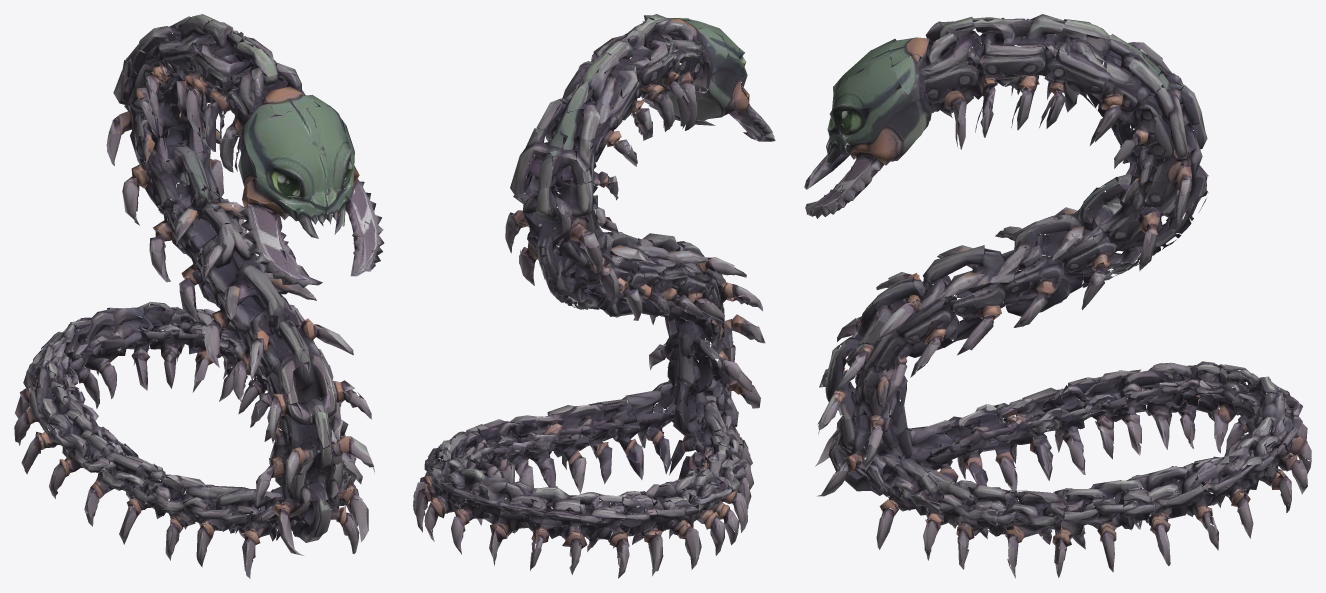
3 views of the same model, side by side, from view 1: azimuth 30°, elevation 25°; view 2: azimuth 150°, elevation 25°; view 3: azimuth 270°, elevation 25° (orthographic). The views are drawn at different scales.
Parts seen in each view (by area): view 1: Mesh_0; view 2: Mesh_0; view 3: Mesh_0.
Boxes of the visible parts, bbox=[...] form: Mesh_0: bbox=[14, 14, 384, 578]; Mesh_0: bbox=[413, 14, 775, 578]; Mesh_0: bbox=[804, 14, 1311, 578].
Bounding box in the file's own units: 1.16 × 1.9 × 1.72.
1 material, 1 textured.
